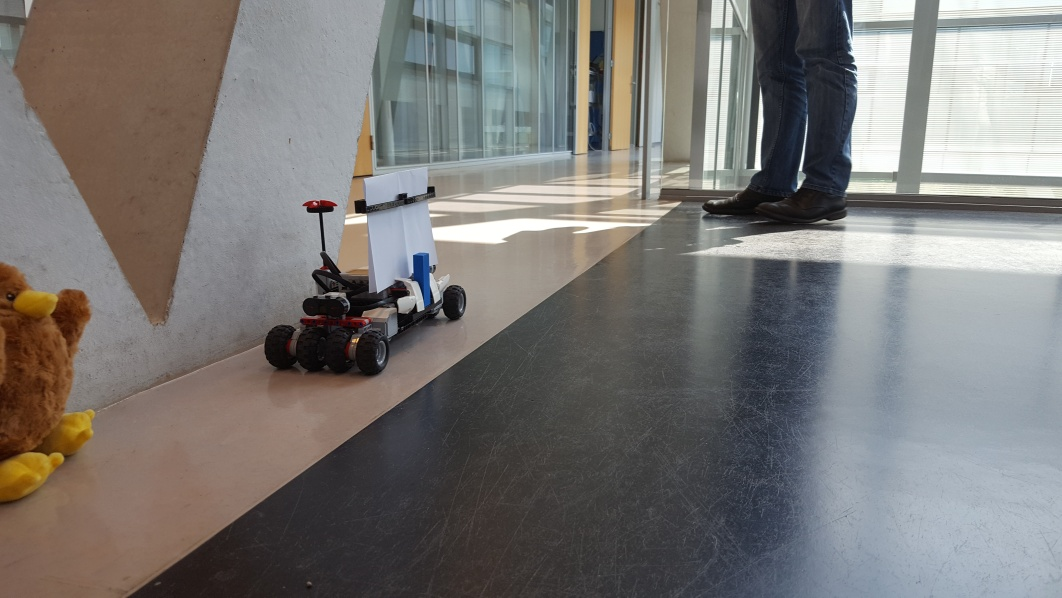car: (265, 167, 467, 374)
chicken: (1, 253, 95, 498)
